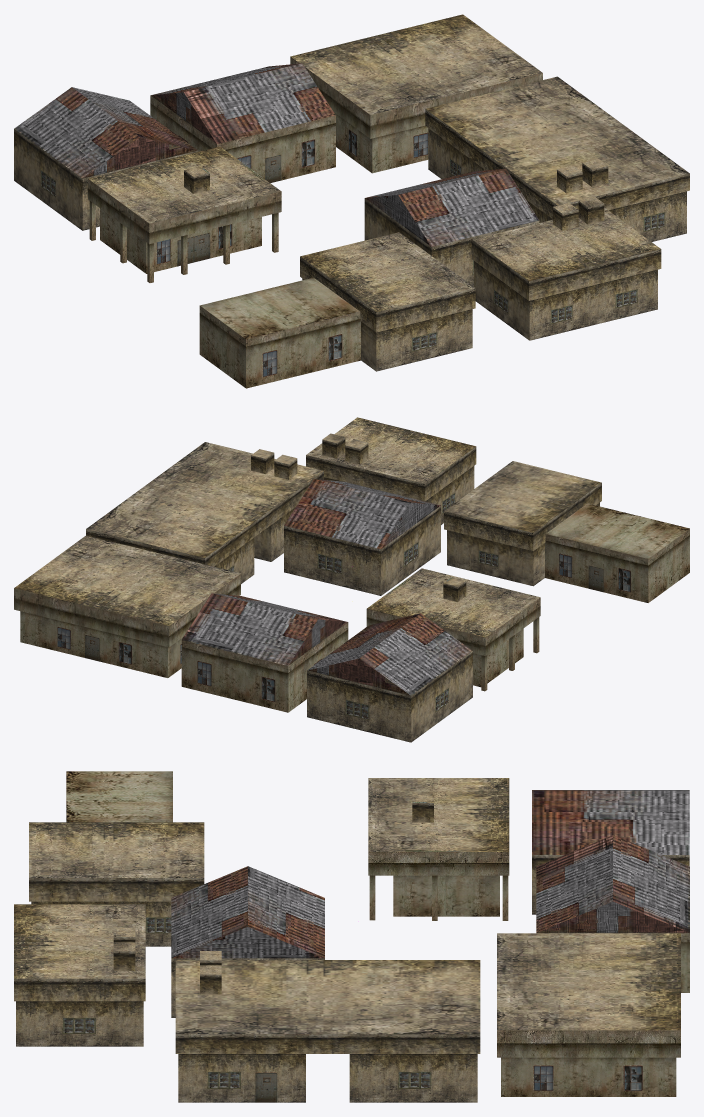
The model's file is MogBlk07.glb.
3 views of the same model, one above another, from view 1: azimuth 30°, elevation 25°; view 2: azimuth 150°, elevation 25°; view 3: azimuth 270°, elevation 25° (orthographic). The views are drawn at different scales.
Visible parts, largest first — view 1: 01 Mesh0, 01 Mesh0.001, 01 Mesh1, 01 Mesh0.002; view 2: 01 Mesh0, 01 Mesh1, 01 Mesh0.001, 01 Mesh0.002; view 3: 01 Mesh0, 01 Mesh1, 01 Mesh0.001, 01 Mesh0.002.
Boxes of the visible parts, <box> form: 01 Mesh0: <box>14,14,689,340</box>; 01 Mesh0.001: <box>82,73,689,388</box>; 01 Mesh1: <box>14,63,665,377</box>; 01 Mesh0.002: <box>177,115,335,266</box>; 01 Mesh0: <box>14,417,689,742</box>; 01 Mesh1: <box>57,479,630,720</box>; 01 Mesh0.001: <box>86,437,689,742</box>; 01 Mesh0.002: <box>85,535,648,661</box>; 01 Mesh0: <box>14,771,689,1101</box>; 01 Mesh1: <box>63,790,689,1090</box>; 01 Mesh0.001: <box>178,855,689,1102</box>; 01 Mesh0.002: <box>178,1054,305,1102</box>.
Size of the model in its own units: 59.46 by 9.2 by 61.59.
5 materials, 2 textured.
